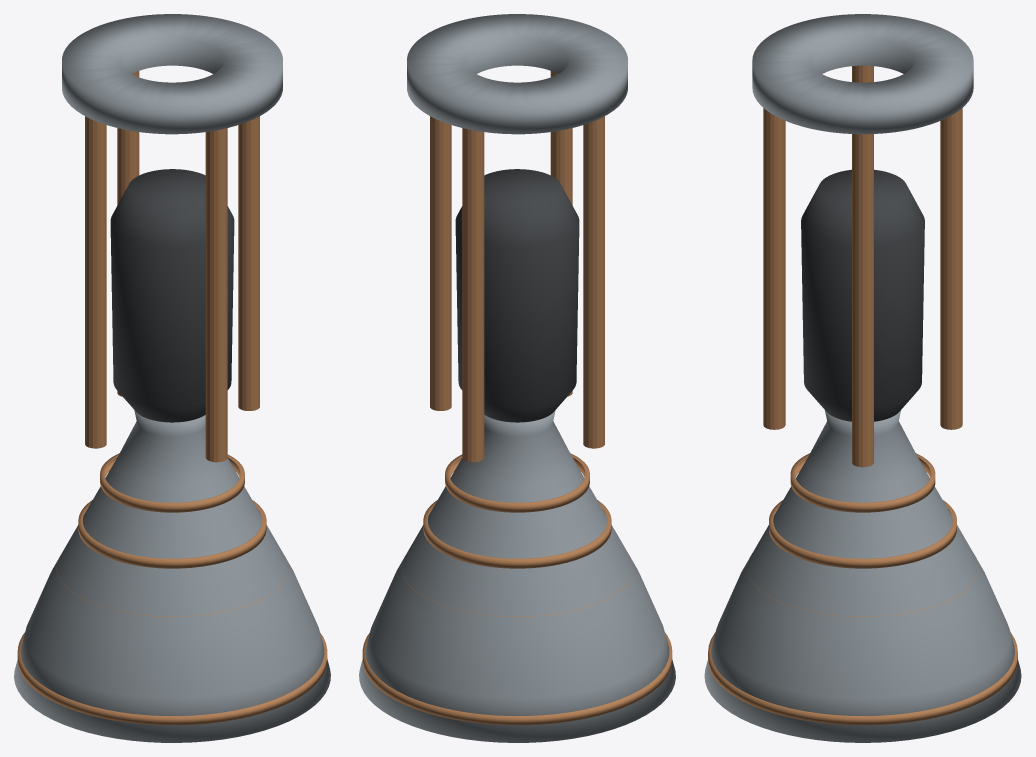
File: rocket_engine.fbx
3 renders of one model, left to right at view 1: azimuth 30°, elevation 25°; view 2: azimuth 150°, elevation 25°; view 3: azimuth 270°, elevation 25°, orthographic.
Visible parts, largest first — view 1: rocket_bell, rocket_chamber, mount_ring, rocket_feed_pipe.003, rocket_feed_pipe.002, rocket_feed_pipe, cooling_band, cooling_band.003, cooling_band.004, rocket_feed_pipe.001; view 2: rocket_bell, rocket_chamber, mount_ring, rocket_feed_pipe.001, rocket_feed_pipe.002, rocket_feed_pipe, cooling_band, cooling_band.003, cooling_band.004, rocket_feed_pipe.003; view 3: rocket_bell, rocket_chamber, mount_ring, rocket_feed_pipe, rocket_feed_pipe.001, rocket_feed_pipe.003, cooling_band, cooling_band.003, cooling_band.004.
Part boxes in pixels (x1,y1,x2,y2): rocket_bell: (14, 410, 330, 742); rocket_chamber: (110, 169, 234, 422); mount_ring: (62, 14, 282, 134); rocket_feed_pipe.003: (205, 128, 227, 462); rocket_feed_pipe.002: (85, 116, 106, 448); rocket_feed_pipe: (238, 116, 259, 410); cooling_band: (17, 632, 327, 725); cooling_band.003: (78, 500, 266, 568); cooling_band.004: (100, 453, 244, 512); rocket_feed_pipe.001: (117, 71, 139, 396); rocket_bell: (359, 410, 675, 742); rocket_chamber: (455, 169, 579, 422); mount_ring: (407, 14, 627, 134); rocket_feed_pipe.001: (462, 128, 484, 462); rocket_feed_pipe.002: (583, 116, 604, 448); rocket_feed_pipe: (430, 116, 451, 410); cooling_band: (362, 632, 672, 725); cooling_band.003: (423, 500, 611, 568); cooling_band.004: (445, 453, 589, 512); rocket_feed_pipe.003: (550, 71, 572, 396); rocket_bell: (704, 410, 1021, 742); rocket_chamber: (801, 169, 924, 421); mount_ring: (752, 14, 973, 134); rocket_feed_pipe: (852, 134, 873, 467); rocket_feed_pipe.001: (940, 108, 962, 429); rocket_feed_pipe.003: (763, 108, 785, 429); cooling_band: (708, 632, 1017, 725); cooling_band.003: (769, 500, 956, 568); cooling_band.004: (790, 453, 935, 512).
Size of the model in its own units: 215 by 460 by 215.
